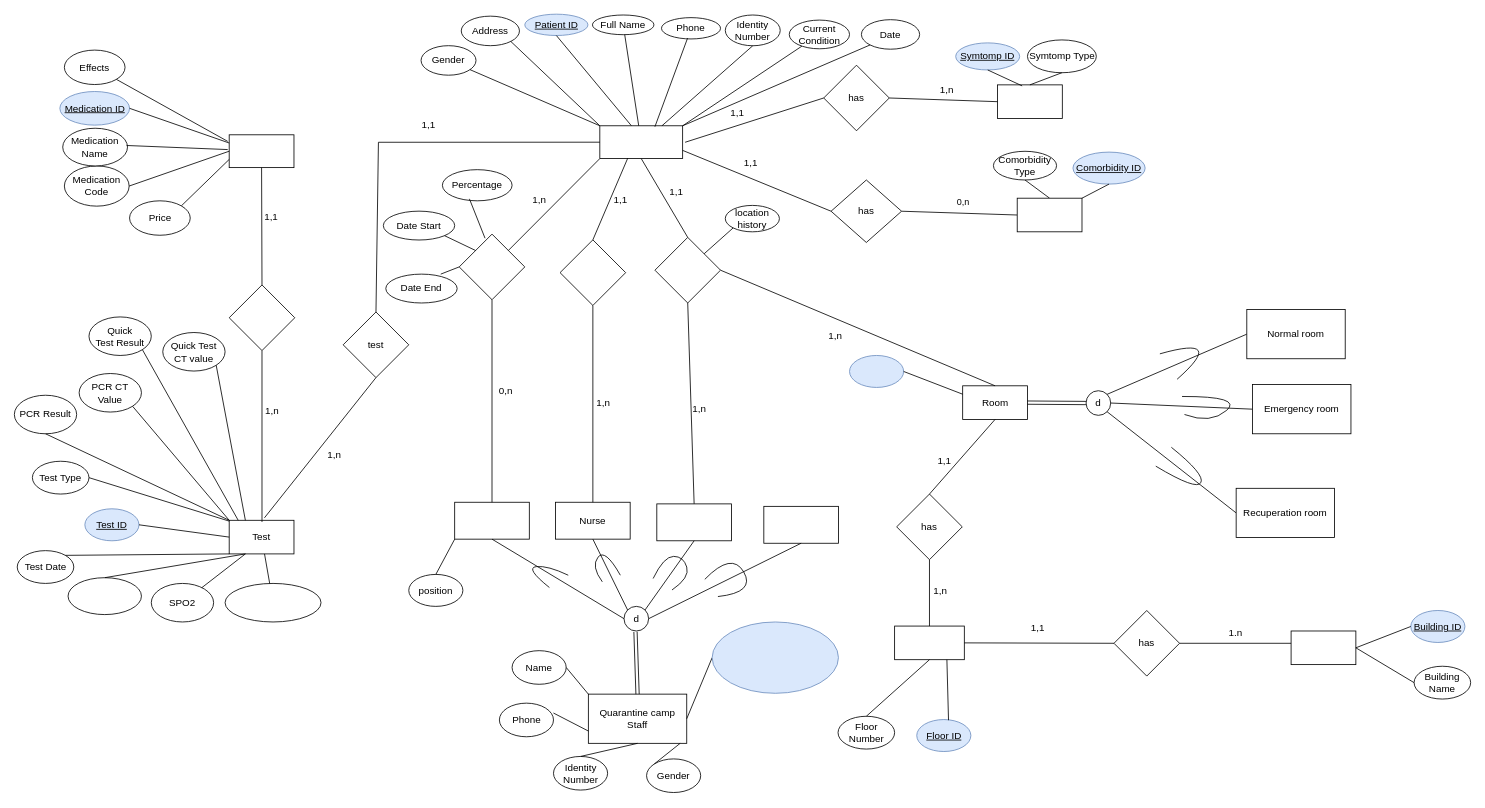
Image size: 1485x808. Some labels were removed from this diagram. The centre of each missing label's shape, as x and y in pixels:
admits: [687,270]
Building: [1323,647]
Comorbidity: [1049,214]
Cycle Threshold: [104,596]
Doctor: [491,520]
Floor: [929,642]
inlude: [261,317]
Medication: [261,151]
Patient: [641,142]
Quarantine_camp_staff_ID: [774,657]
Respiratory_Rate: [272,602]
Room ID: [876,371]
Staff: [693,522]
Symtomp: [1029,101]
take care: [592,272]
treatment: [491,266]
Volunteer: [800,524]
